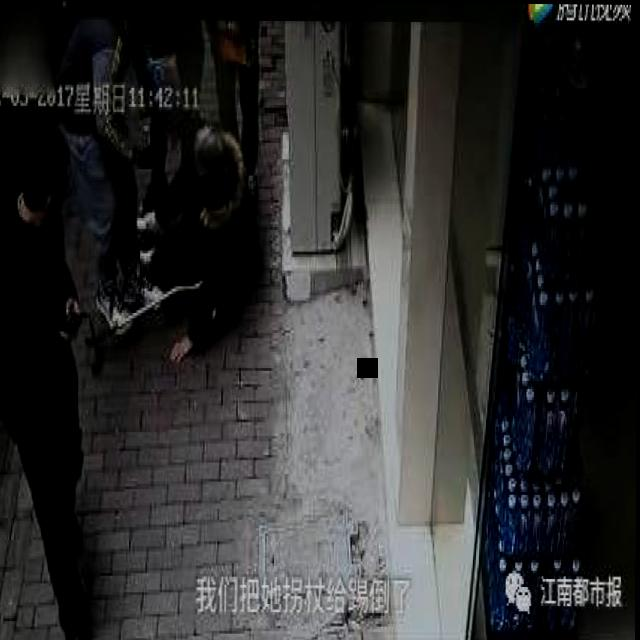Fall-Detected: (130, 139, 271, 368)
